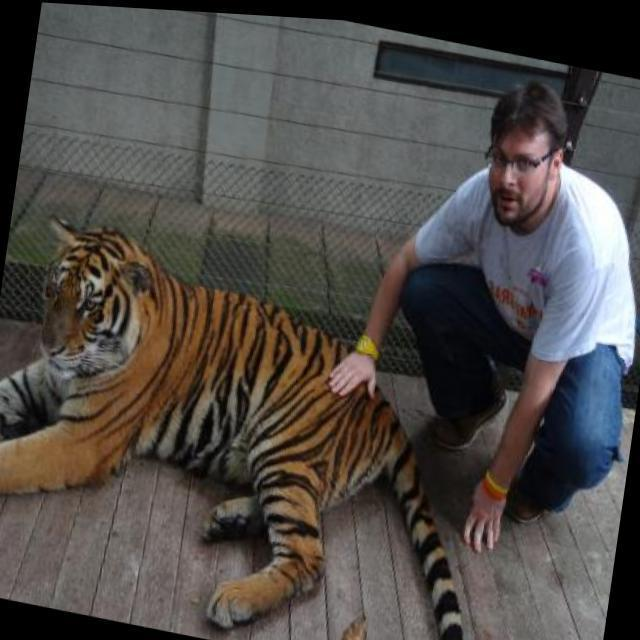tiger: (0, 213, 471, 639)
